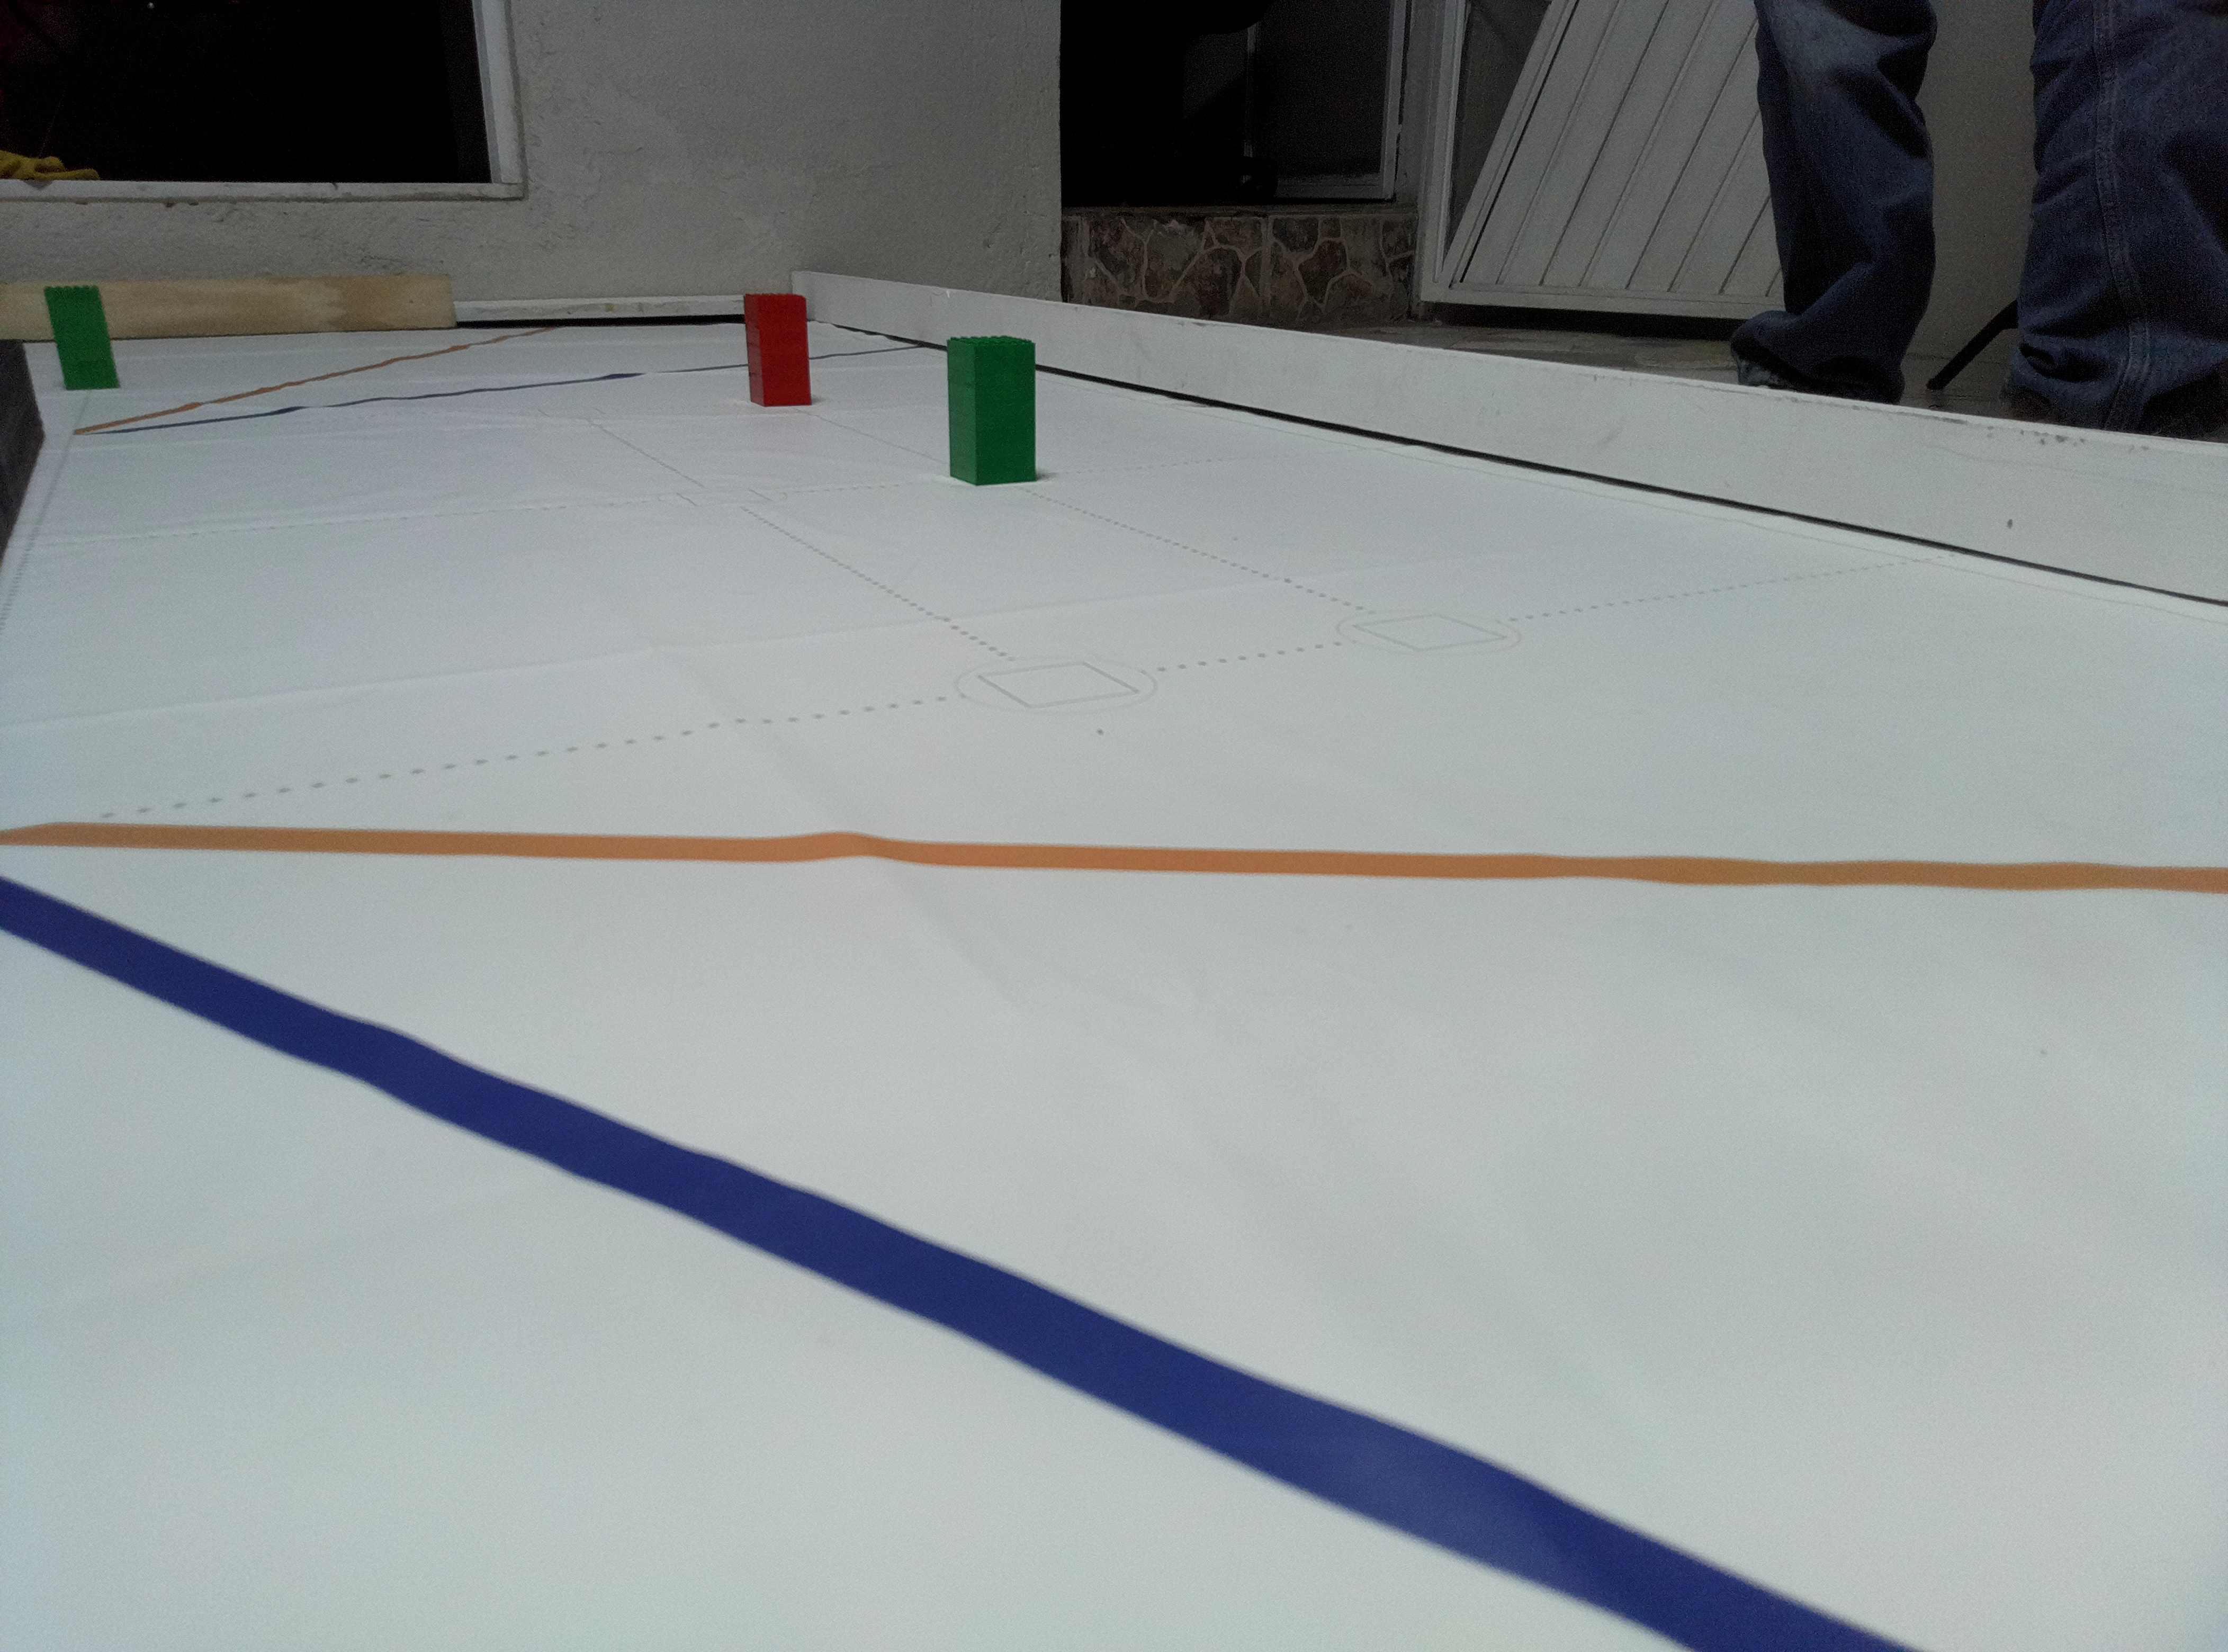greenbox: (944, 333, 1038, 487), (42, 284, 122, 391)
redbox: (741, 292, 814, 408)
